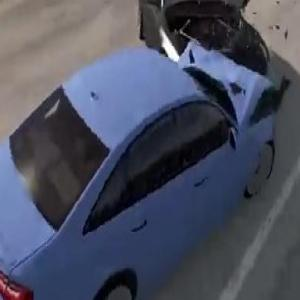significant: (0, 0, 290, 300)
